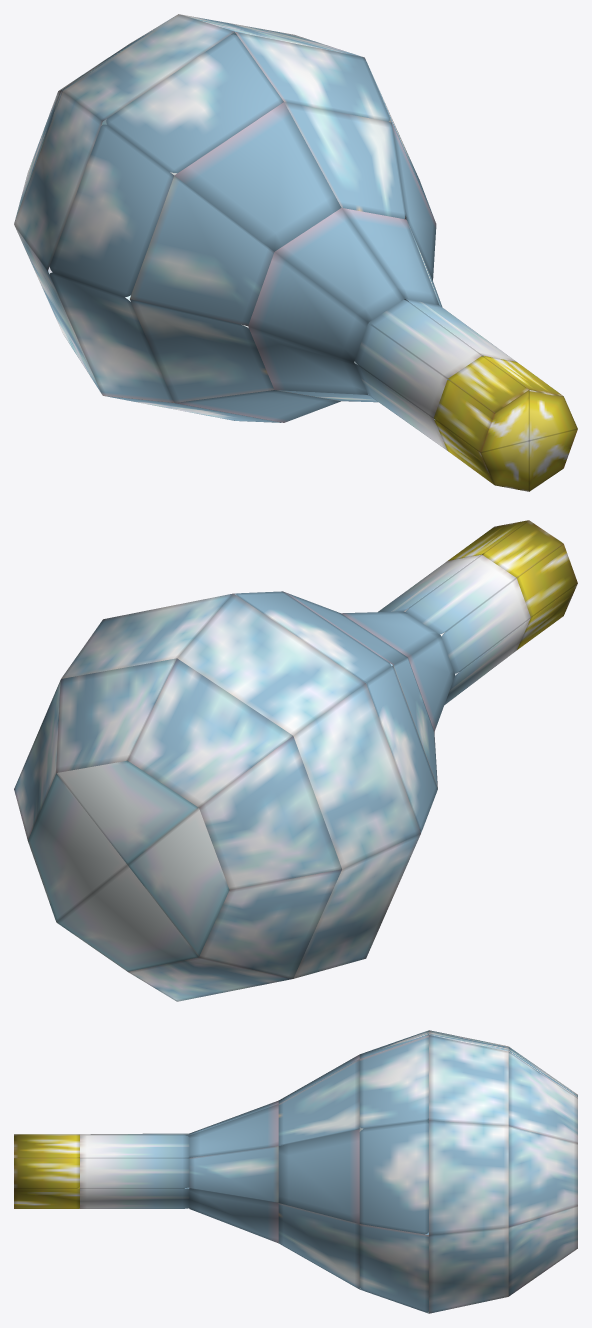
The picture shows the model from 3 angles, top to bottom: view 1: azimuth 30°, elevation 25°; view 2: azimuth 150°, elevation 25°; view 3: azimuth 270°, elevation 25°; orthographic projection. The views are drawn at different scales.
Parts seen in each view (by area): view 1: T1L4M009_6; view 2: T1L4M009_6; view 3: T1L4M009_6.
Part boxes in pixels (x1,y1,x2,y2): T1L4M009_6: [14, 14, 577, 491]; T1L4M009_6: [14, 520, 577, 1001]; T1L4M009_6: [14, 1030, 577, 1313].
Bounding box in the file's own units: 0.1787 × 0.1787 × 0.333.
